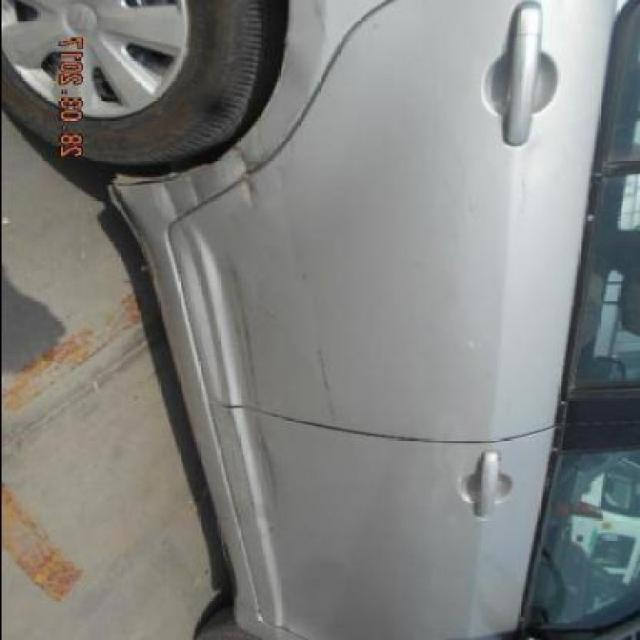damage: (151, 62, 316, 221), (221, 262, 277, 514), (310, 341, 338, 428)
